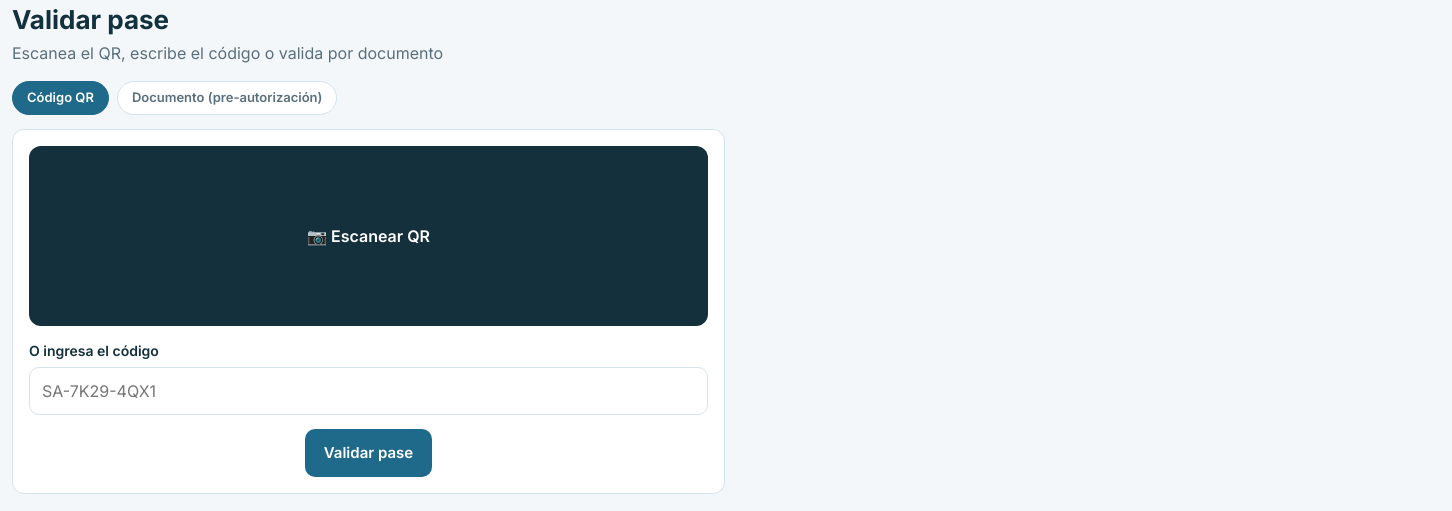
Test: ValidatePassPage › TC-QR-11 sends the trimmed code scoped to the guard complex and shows a valid pass
Step 1. Type "  SA-7K29-4QX1 " into the field with placeholder "SA-7K29-4QX1" → (368, 390), box [29,366,708,414]
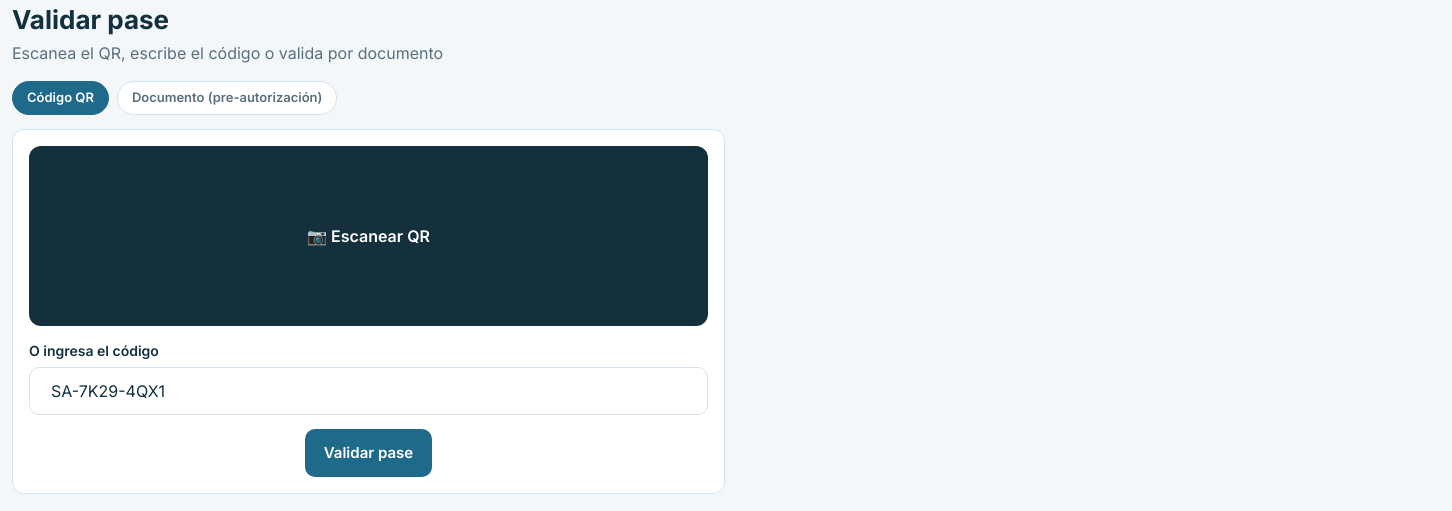
Step 2. Click the button "Validar pase" → click(369, 453), box [305,428,432,477]
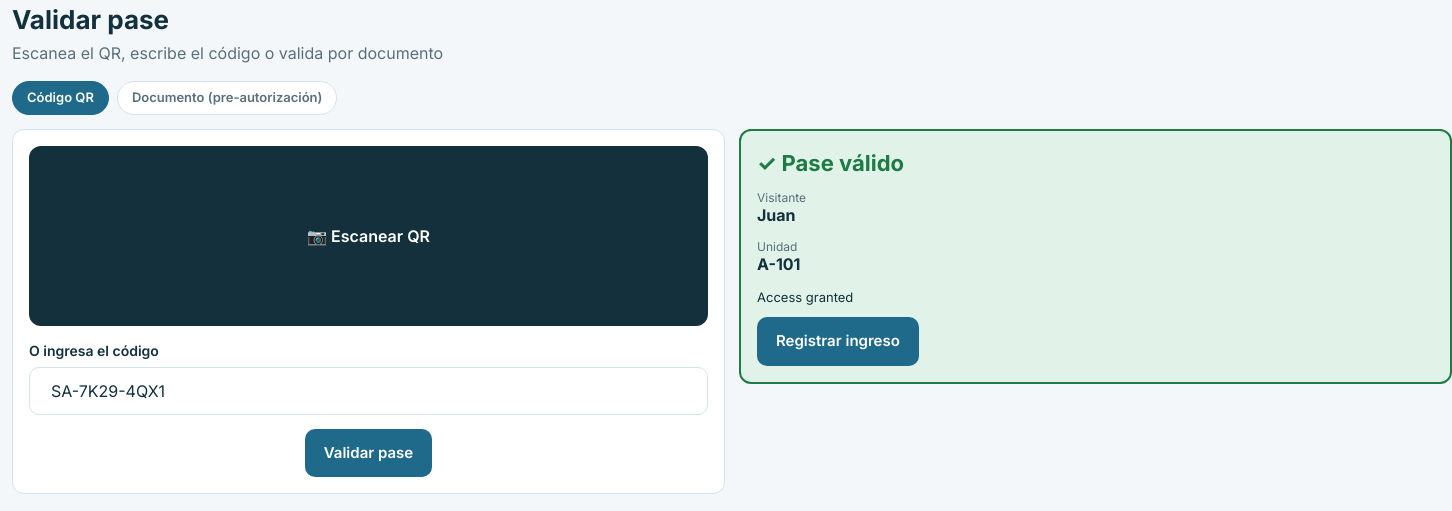
Expected: the heading "✓ Pase válido" is shown, [757,150,904,176]
